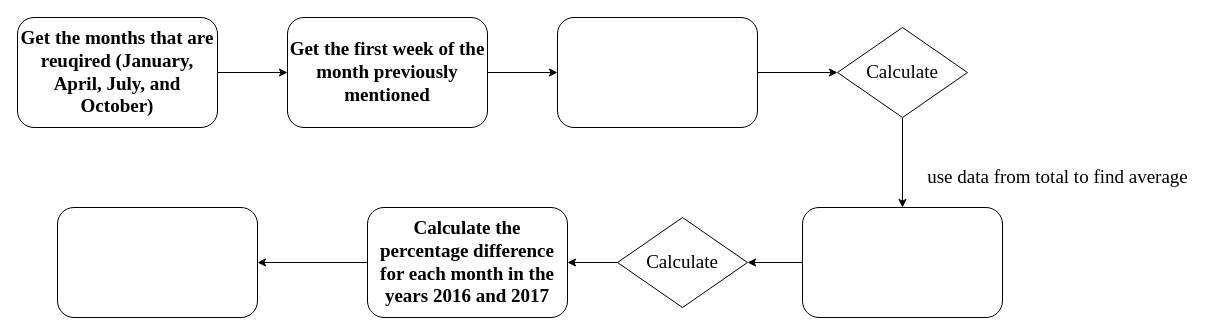
Image size: 1215x335. Some labels were removed from this diagram. Here are the shapes that lost their labels. From the top down, the box of each, then its label:
(556, 16, 758, 128): Calculate total Cyclist on the roads per day (For 2016 & 2017)
(56, 206, 258, 318): Plot Graph showing differnces in percentages
(802, 206, 1002, 318): Calculate average total Cyclist per month (For 2016 & 2017)
